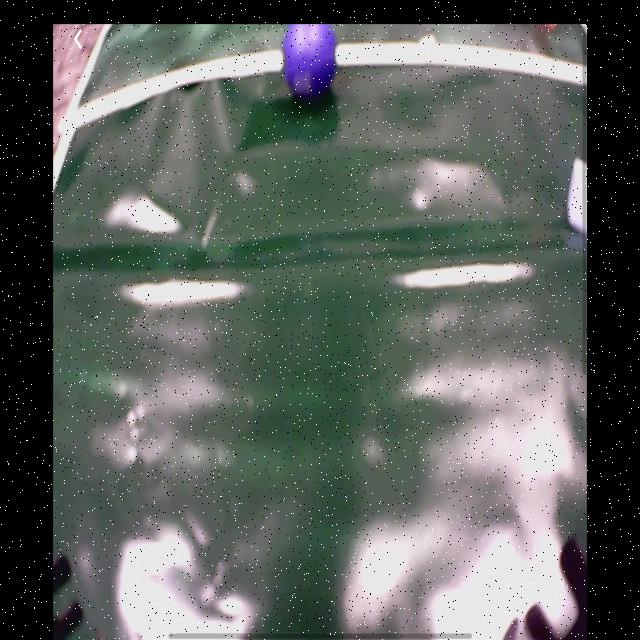ball: (285, 25, 337, 100)
